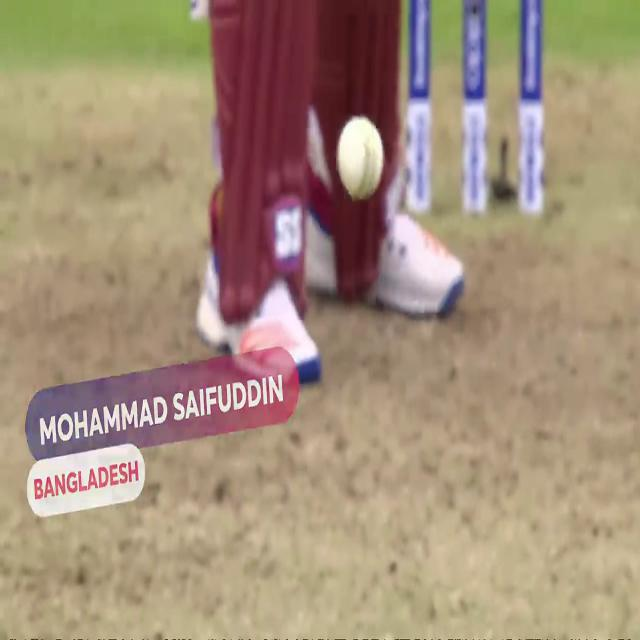ball: (332, 110, 388, 209)
